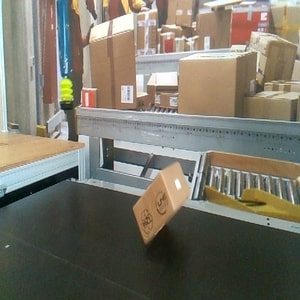box: (131, 161, 192, 245)
